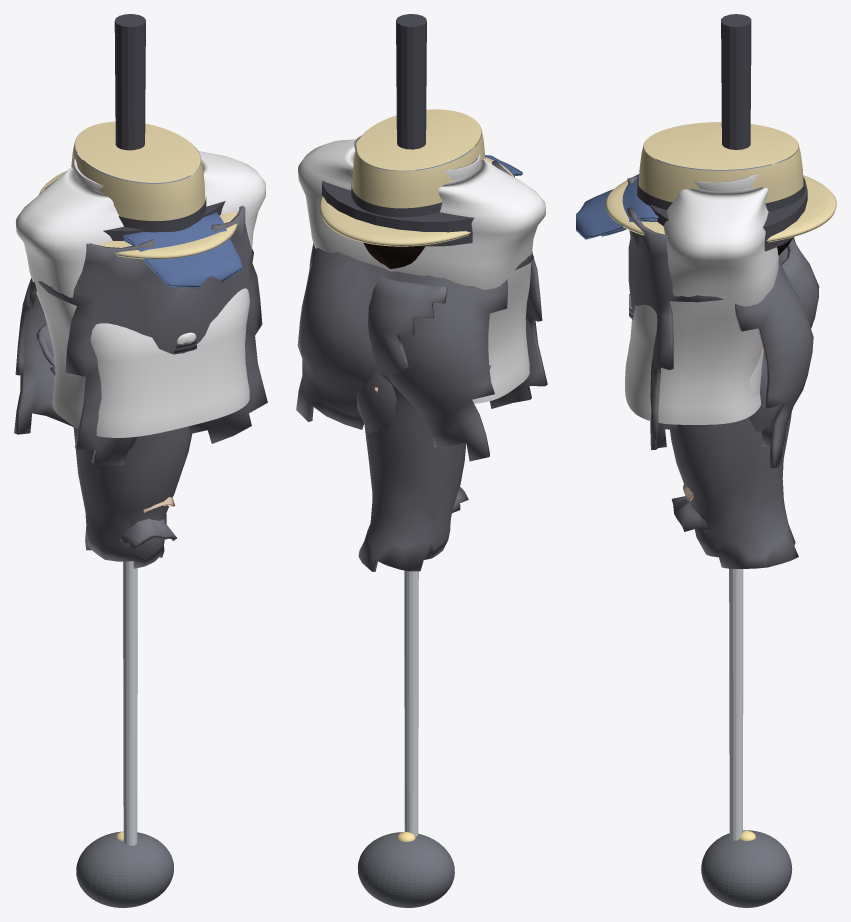
The model's file is hero_golf_base.glb.
The picture shows the model from 3 angles, left to right: view 1: azimuth 30°, elevation 25°; view 2: azimuth 150°, elevation 25°; view 3: azimuth 270°, elevation 25°; orthographic projection.
Parts seen in each view (by area): view 1: torso_shirt, pelvis, thigh, straw, club_driver, straw_top, club_shaft, cap_brim, club_grip, shin, belt_strap; view 2: pelvis, torso_shirt, thigh, straw, club_driver, straw_top, club_grip, club_shaft, belt_strap, shin, mpfb_hair; view 3: torso_shirt, thigh, pelvis, straw, club_driver, straw_top, club_grip, club_shaft, cap_brim, shin, belt_strap, collar.
Part boxes in pixels (x1=…): torso_shirt: x1=15, y1=151, x2=265, y2=437; pelvis: x1=14, y1=205, x2=267, y2=465; thigh: x1=36, y1=324, x2=192, y2=568; straw: x1=39, y1=134, x2=237, y2=259; club_driver: x1=76, y1=831, x2=173, y2=907; straw_top: x1=75, y1=121, x2=200, y2=182; club_shaft: x1=123, y1=561, x2=137, y2=845; cap_brim: x1=123, y1=212, x2=242, y2=288; club_grip: x1=114, y1=14, x2=145, y2=150; shin: x1=120, y1=519, x2=176, y2=549; belt_strap: x1=44, y1=179, x2=225, y2=240; pelvis: x1=296, y1=160, x2=547, y2=461; torso_shirt: x1=298, y1=139, x2=545, y2=403; thigh: x1=358, y1=275, x2=490, y2=571; straw: x1=319, y1=121, x2=514, y2=246; club_driver: x1=357, y1=832, x2=454, y2=907; straw_top: x1=356, y1=109, x2=481, y2=170; club_grip: x1=396, y1=14, x2=426, y2=149; club_shaft: x1=404, y1=570, x2=418, y2=836; belt_strap: x1=322, y1=181, x2=473, y2=246; shin: x1=356, y1=370, x2=468, y2=512; mpfb_hair: x1=363, y1=242, x2=425, y2=268; torso_shirt: x1=625, y1=187, x2=778, y2=424; thigh: x1=670, y1=238, x2=819, y2=568; pelvis: x1=627, y1=174, x2=813, y2=468; straw: x1=605, y1=139, x2=836, y2=242; club_driver: x1=701, y1=830, x2=792, y2=907; straw_top: x1=644, y1=122, x2=798, y2=169; club_grip: x1=721, y1=14, x2=751, y2=149; club_shaft: x1=729, y1=568, x2=743, y2=840; cap_brim: x1=576, y1=175, x2=658, y2=239; shin: x1=671, y1=351, x2=791, y2=532; belt_strap: x1=650, y1=179, x2=807, y2=251; collar: x1=693, y1=162, x2=777, y2=191.
Bounding box in the file's own units: 0.516 × 1.87 × 0.5014.
20 materials, 8 textured.
